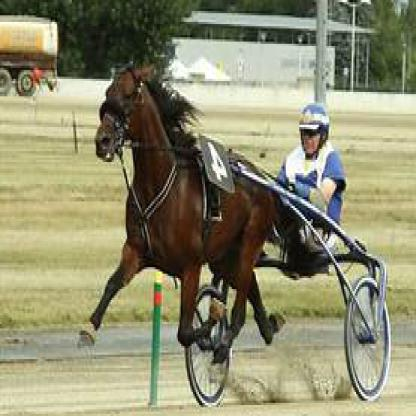horse: (76, 62, 283, 364)
